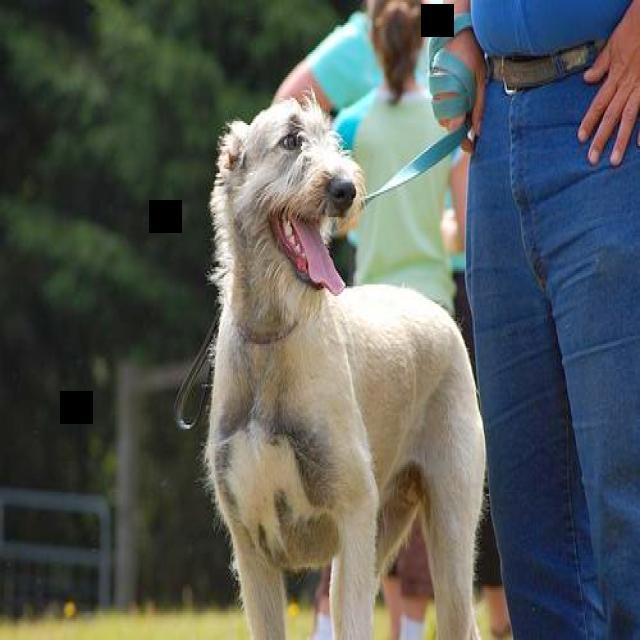adult_dog: (201, 95, 486, 640)
non-dog: (424, 2, 640, 640), (270, 0, 463, 327)
